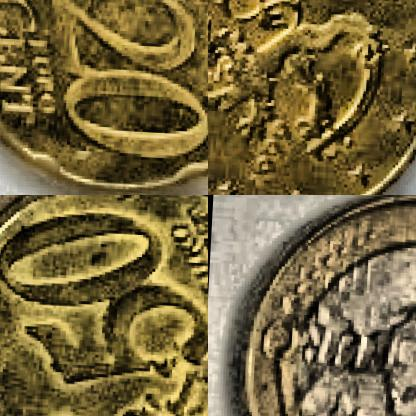coin: (0, 195, 207, 415), (0, 0, 207, 194), (208, 0, 415, 194), (235, 195, 415, 415)
